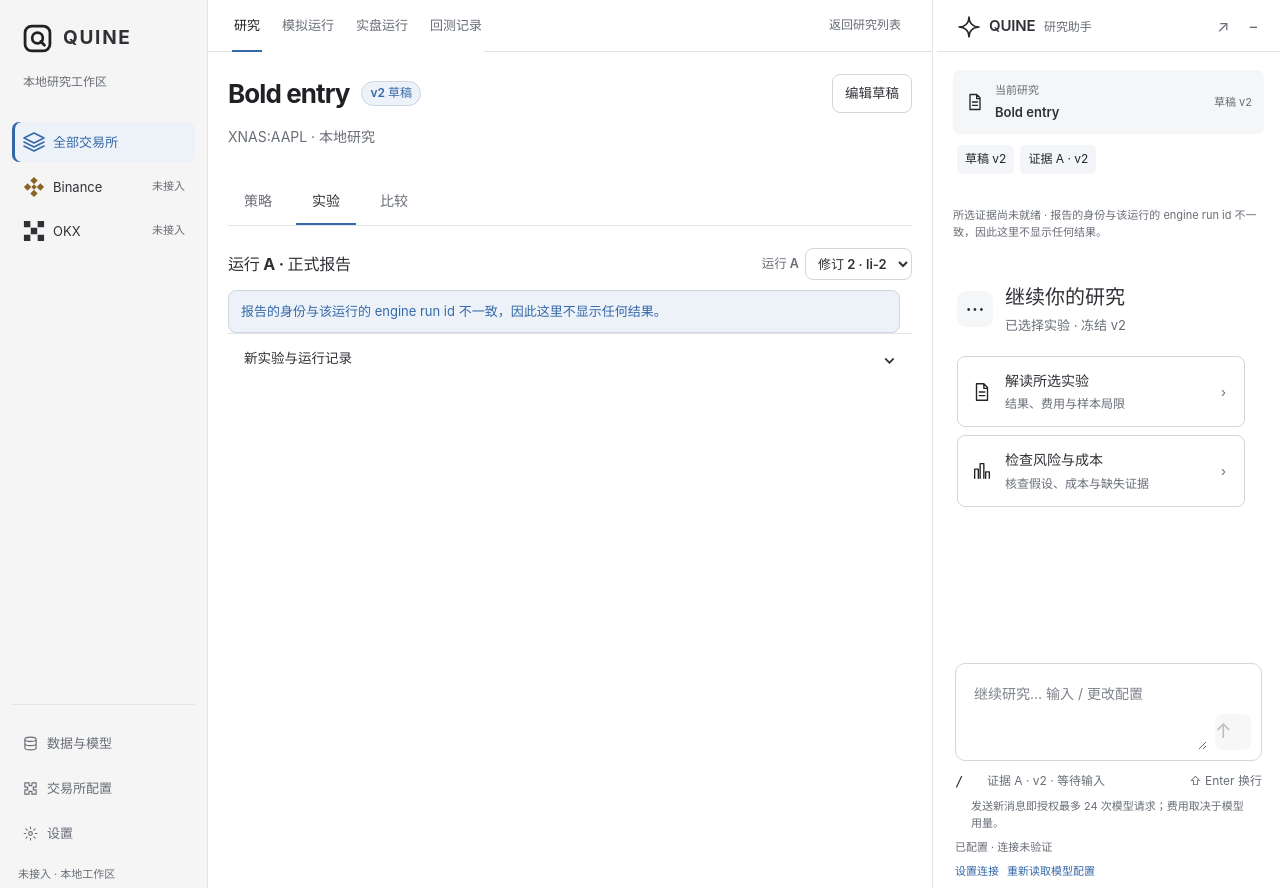
Scenario: user strategy evidence comparison › shows an unavailable run as unavailable, never as a zero
Step 1. Click the tab "比较" → {"x": 394, "y": 202}, box [364,179,424,225]
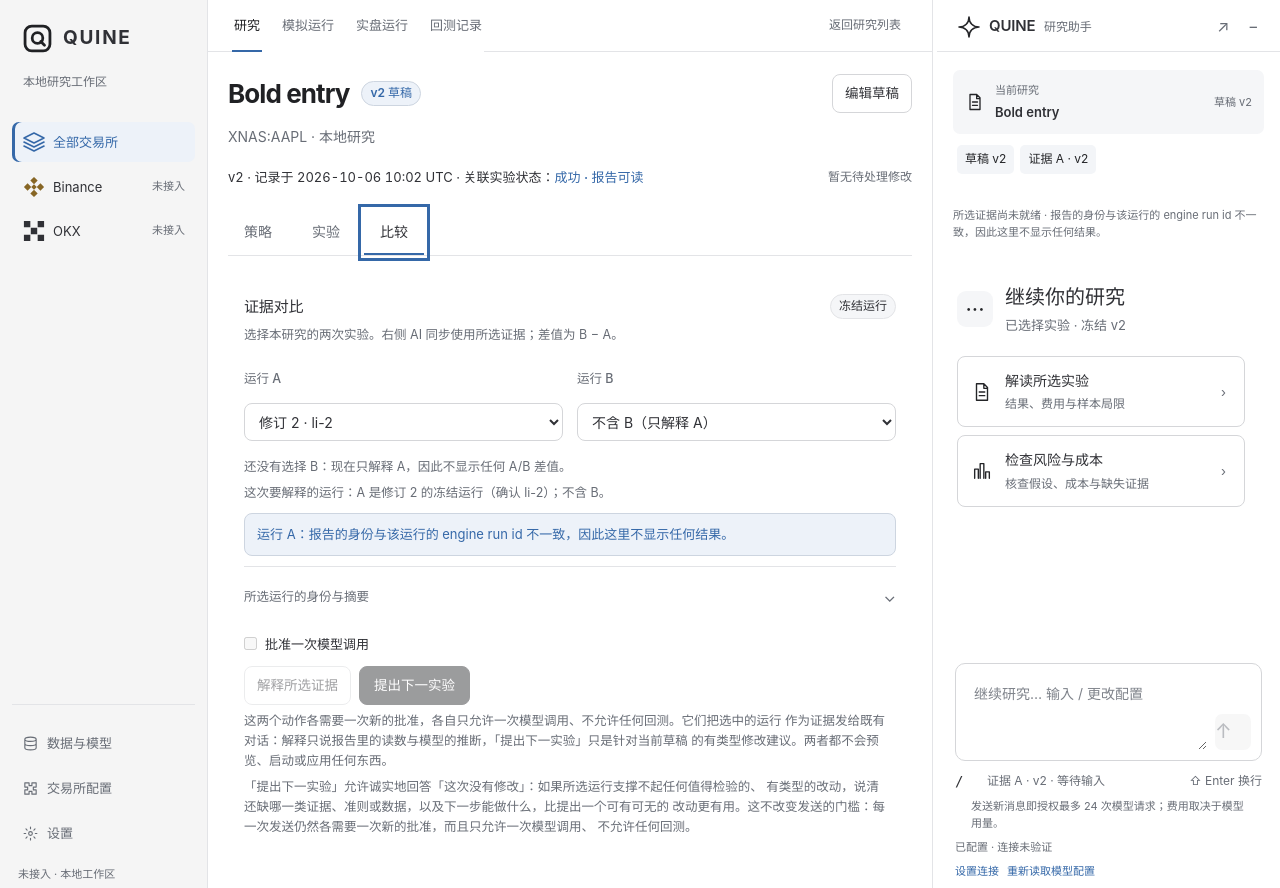
Step 2. Select "修订 1 · li-1" in the dropdown labelled "运行 B" → {"x": 736, "y": 422}, box [577,403,896,441]
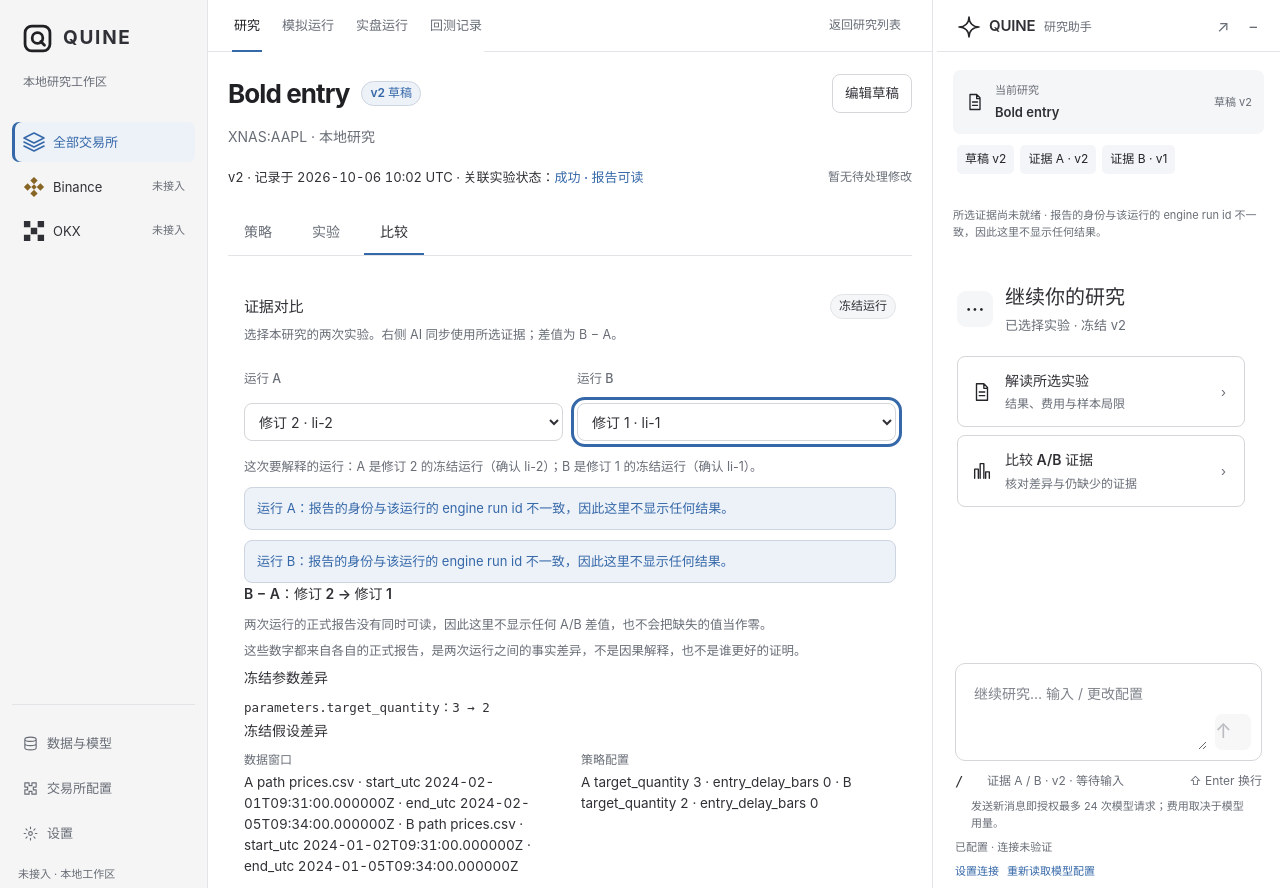
expect the text "运行 A：报告的身份与该运行的 engine run id 不一致，因此这里不显示任何结果。" is shown: met, box [244,487,896,530]
expect the text "两次运行的正式报告没有同时可读，因此这里不显示任何 A/B 差值，也不会把缺失的值当作零。" is shown: met, box [244,616,773,632]
expect the list item "parameters.target_quantity：3 → 2" is shown: met, box [244,700,490,715]
